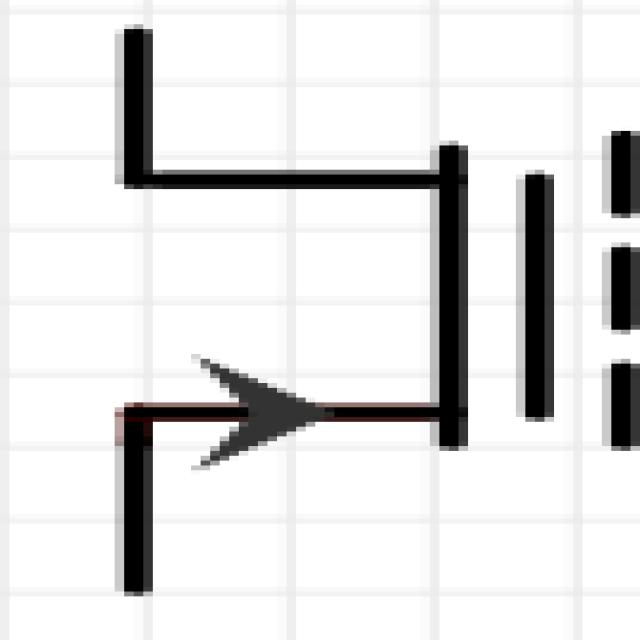pmos: (67, 19, 640, 592)
